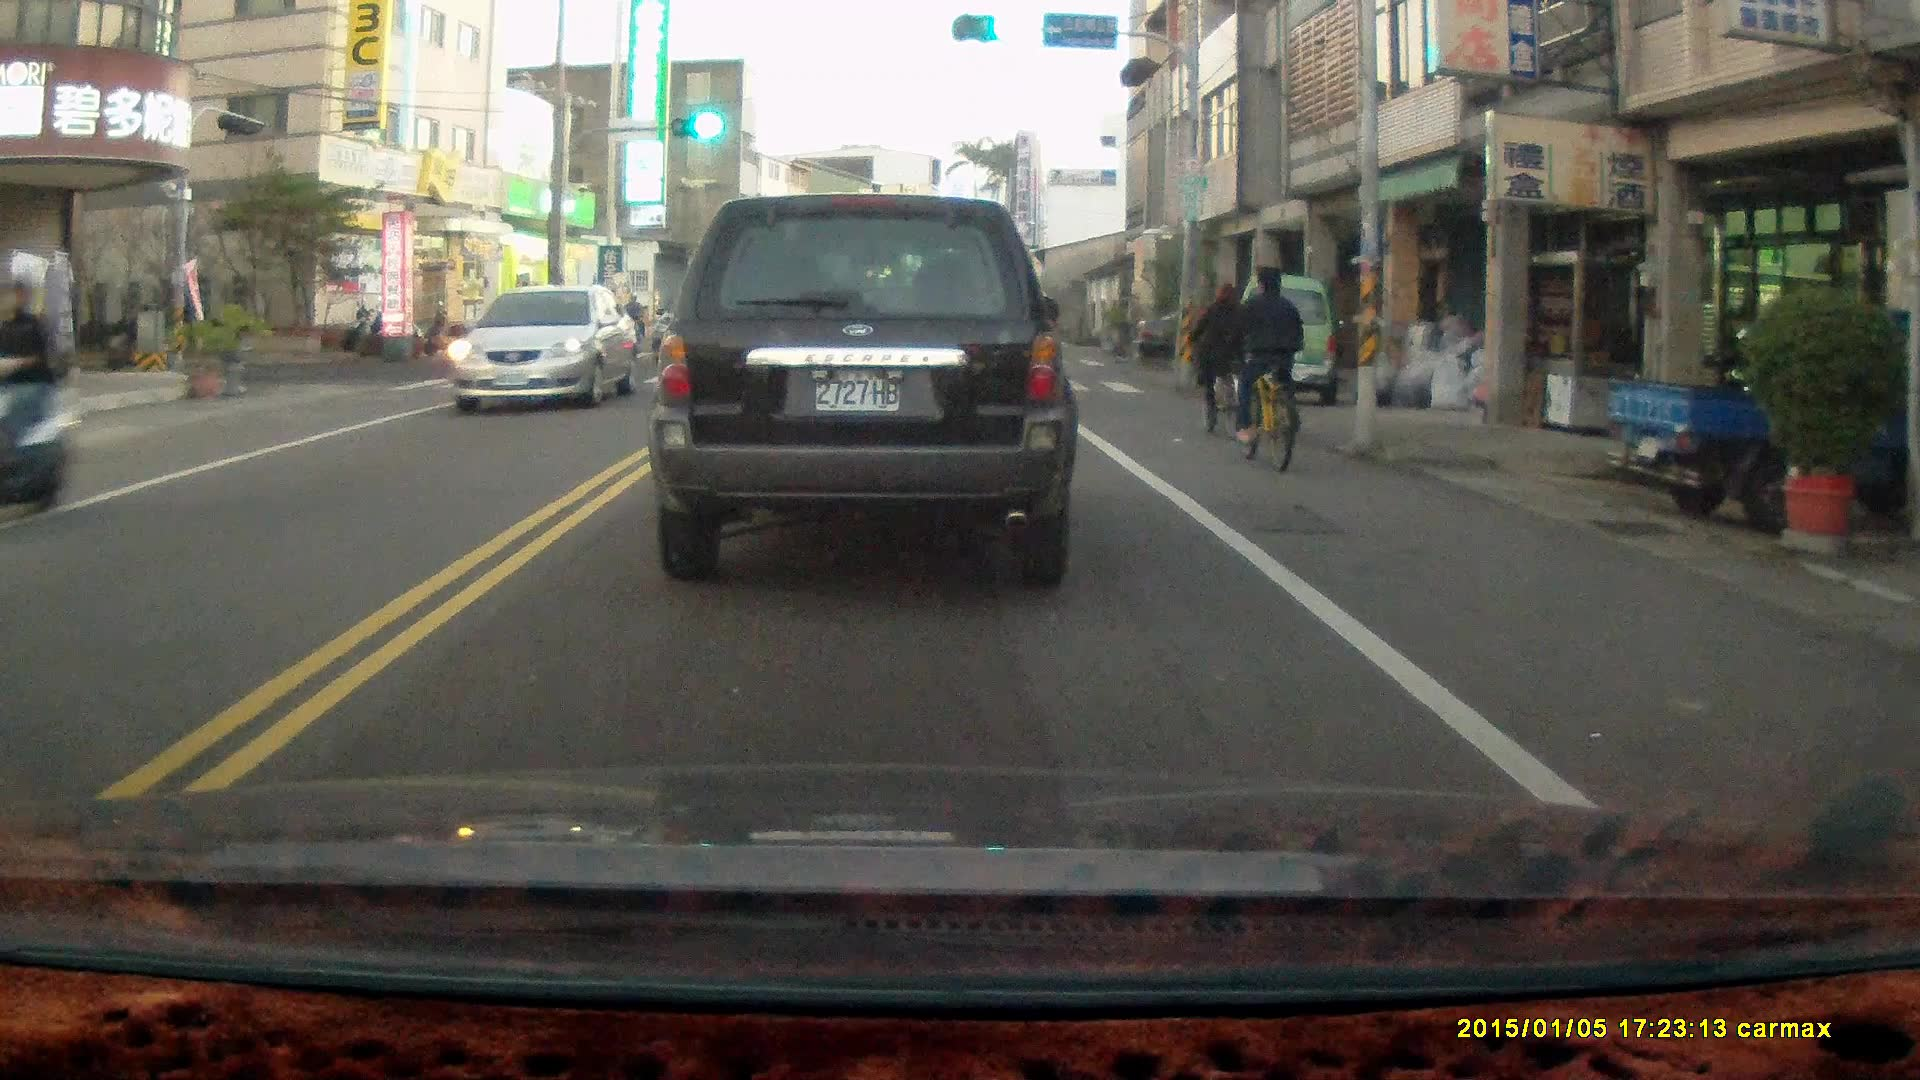rider: (0, 265, 77, 532), (1220, 264, 1304, 473), (1184, 278, 1252, 440), (105, 297, 173, 372)
vehicle: (660, 185, 1078, 580), (446, 284, 638, 412), (1231, 277, 1346, 401)
